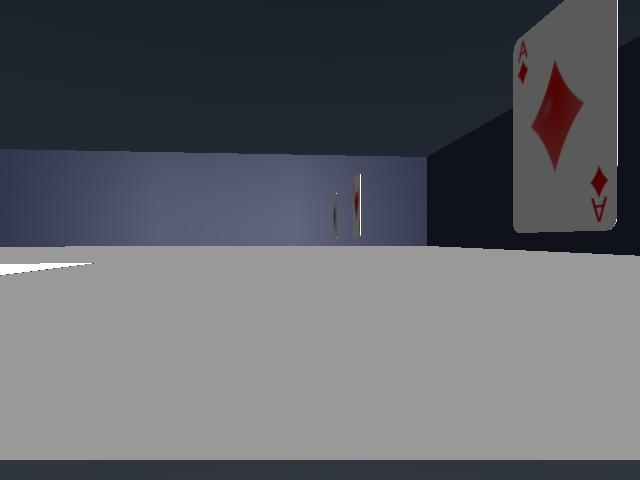diamond: (513, 0, 617, 232)
